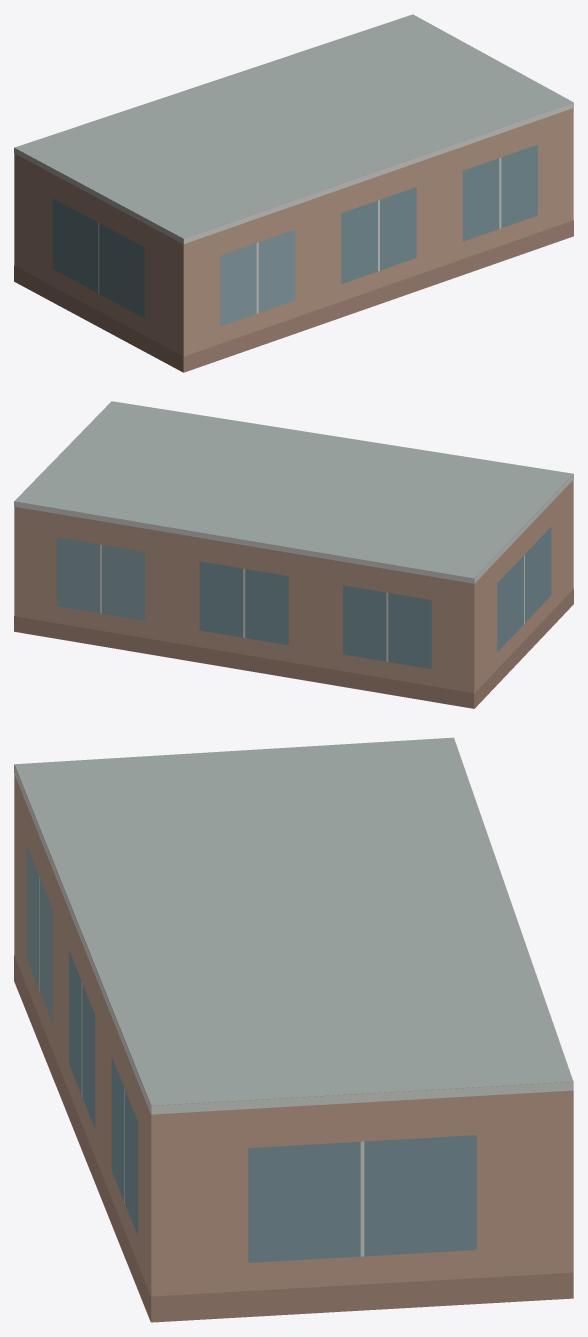
The model's file is survey-upis-32520402.glb.
The picture shows the model from 3 angles, top to bottom: view 1: azimuth 30°, elevation 25°; view 2: azimuth 150°, elevation 25°; view 3: azimuth 270°, elevation 25°; orthographic projection. The views are drawn at different scales.
Parts seen in each view (by area): view 1: survey-upis-32520402.tmp; view 2: survey-upis-32520402.tmp; view 3: survey-upis-32520402.tmp.
Boxes of the visible parts, x1,y1,x2,y2 form: survey-upis-32520402.tmp: (14, 14, 573, 372); survey-upis-32520402.tmp: (14, 401, 573, 708); survey-upis-32520402.tmp: (14, 737, 573, 1322).
Size of the model in its own units: 11.12 by 3.05 by 7.14.
